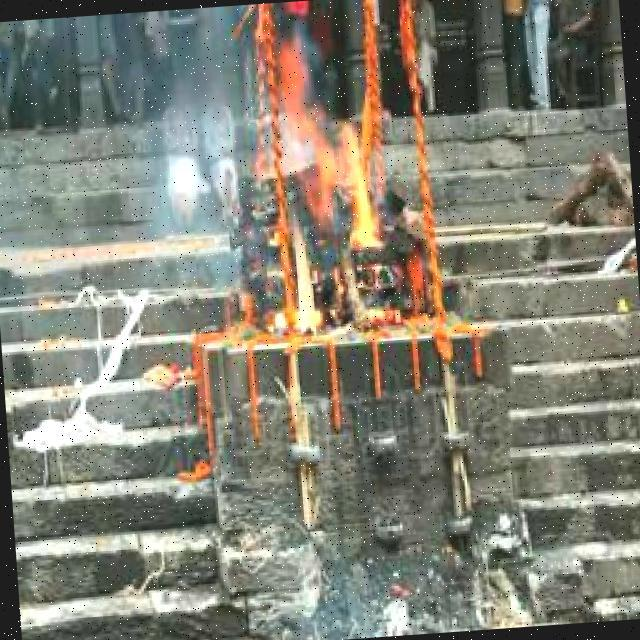Fire: (268, 40, 383, 334)
